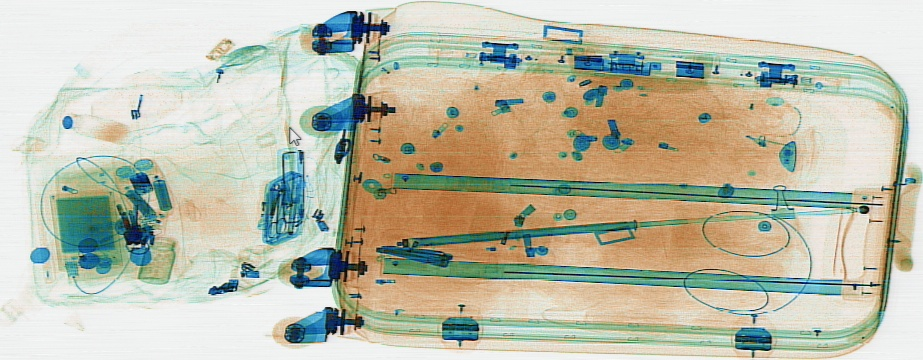scissors: (266, 182, 289, 240)
